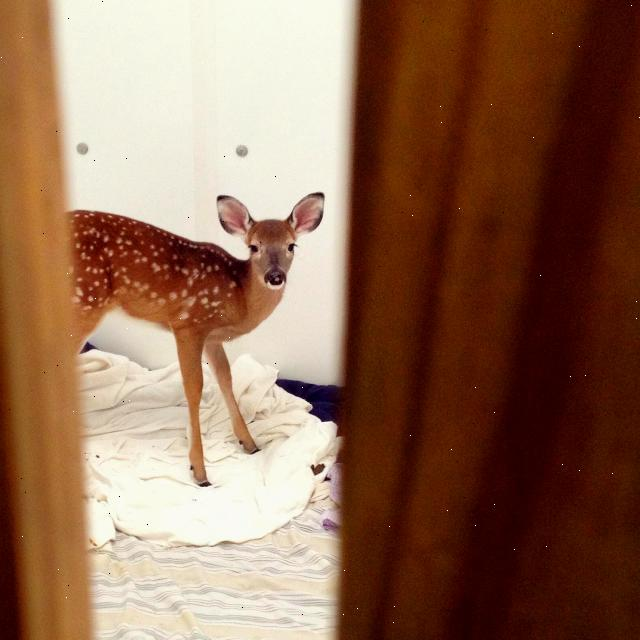deer: (79, 184, 334, 503)
